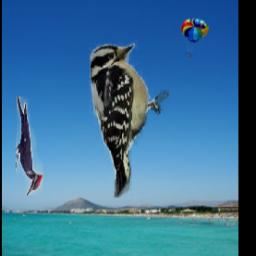Woodpecker: (88, 41, 168, 199), (16, 98, 43, 196)
